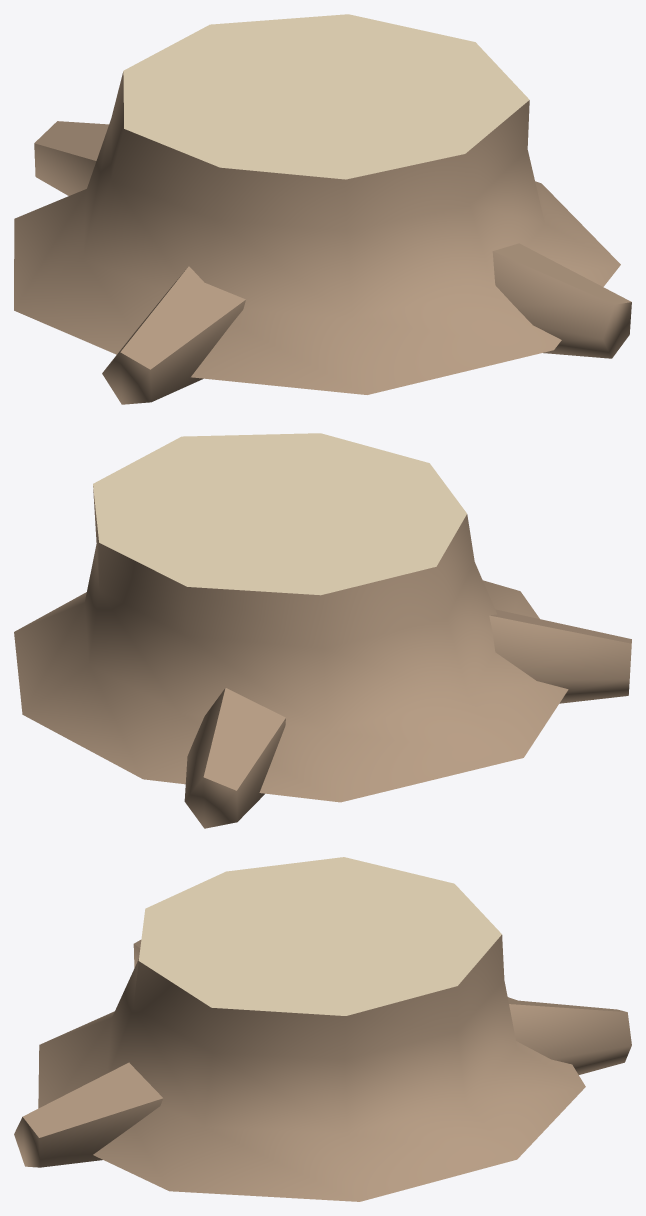
The model's file is stump_B.glb.
The picture shows the model from 3 angles, top to bottom: view 1: azimuth 30°, elevation 25°; view 2: azimuth 150°, elevation 25°; view 3: azimuth 270°, elevation 25°; orthographic projection. The views are drawn at different scales.
Parts seen in each view (by area): view 1: stump_B; view 2: stump_B; view 3: stump_B.
Boxes of the visible parts, x1=… form: stump_B: x1=14, y1=14, x2=631, y2=404; stump_B: x1=14, y1=433, x2=631, y2=828; stump_B: x1=14, y1=857, x2=631, y2=1201.
Bounding box in the file's own units: 0.477 × 0.1702 × 0.5141.
